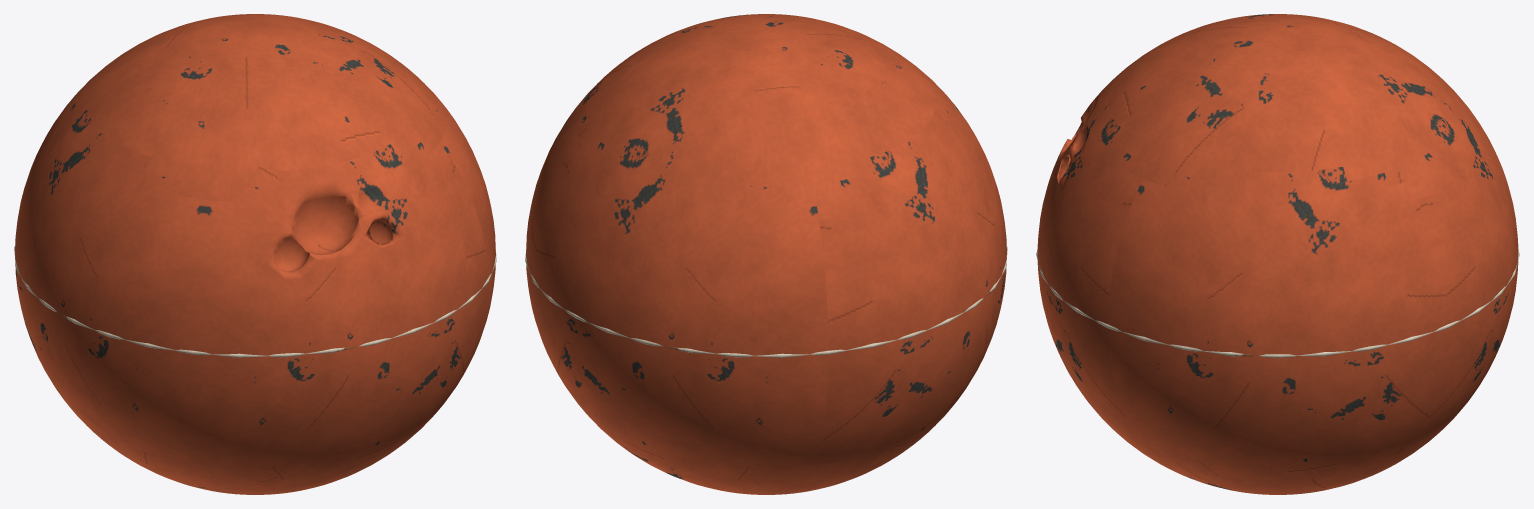
Rendered from C2_红色小球_分享包版.glb.
3 views of the same model, side by side, from view 1: azimuth 30°, elevation 25°; view 2: azimuth 150°, elevation 25°; view 3: azimuth 270°, elevation 25° (orthographic).
Parts seen in each view (by area): view 1: Worn red rubber ball, Equatorial seam; view 2: Worn red rubber ball, Equatorial seam; view 3: Worn red rubber ball, Equatorial seam.
Part boxes in pixels (x1,y1,x2,y2): Worn red rubber ball: [15, 14, 495, 494]; Equatorial seam: [14, 245, 496, 357]; Worn red rubber ball: [526, 14, 1006, 494]; Equatorial seam: [525, 245, 1007, 357]; Worn red rubber ball: [1037, 14, 1518, 494]; Equatorial seam: [1036, 249, 1519, 357].
Bounding box in the file's own units: 0.3216 × 0.32 × 0.3216.
Materials: 2 (2 with a texture image).
